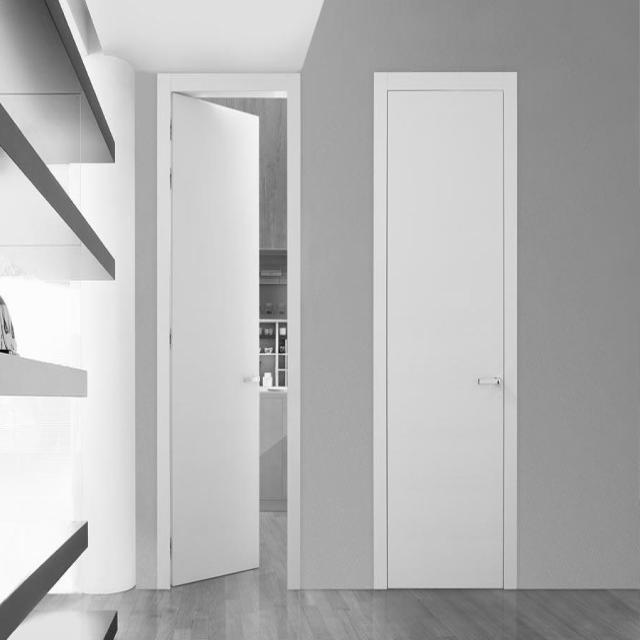door: (155, 65, 311, 607), (370, 58, 522, 600)
